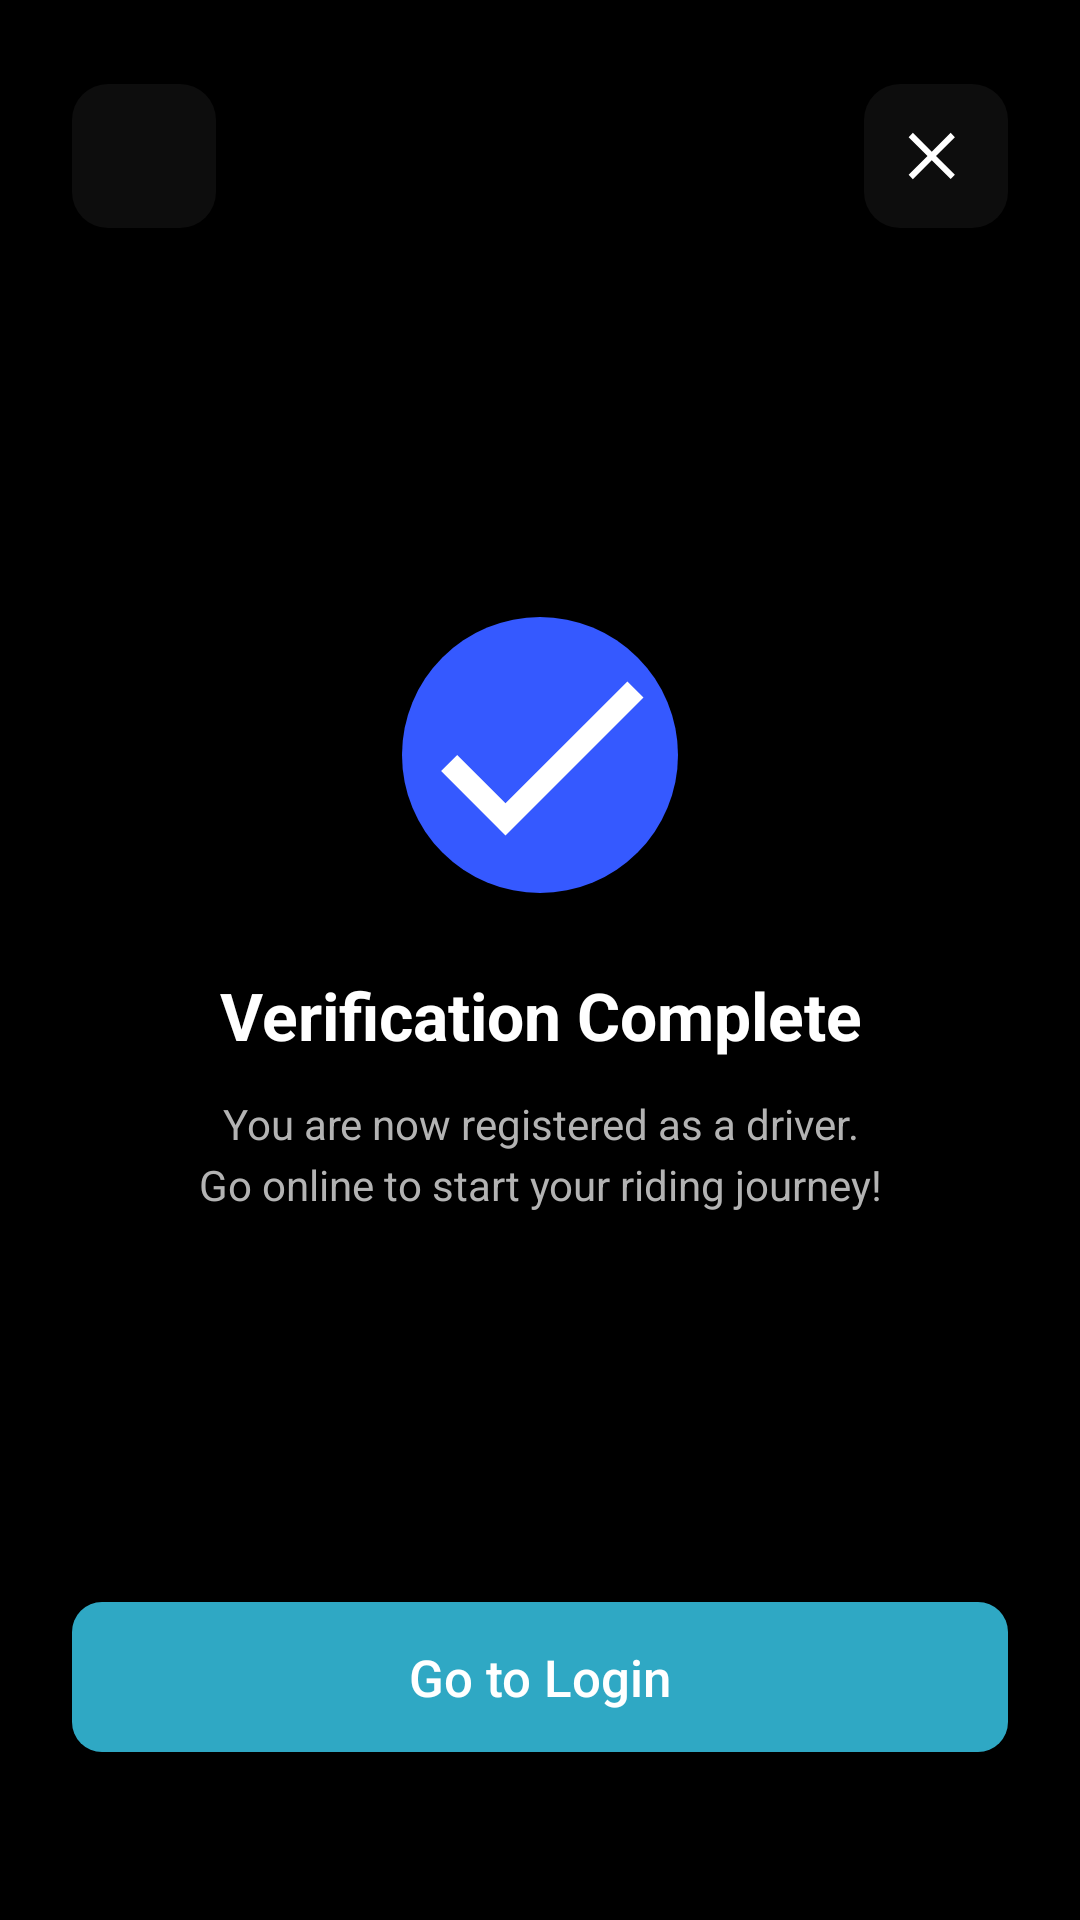

Screen size 1080x1920. Icon name, then its box in pixels as (x1, y1, x2, y2):
Close: (864, 84, 1008, 228)
